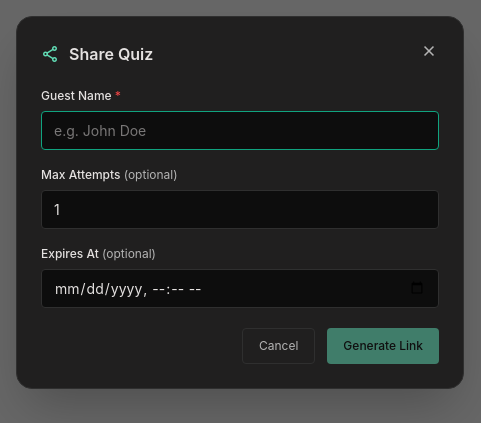
Test case: ShareDialog › creates a share link with sanitized payload
The width and height of the screenshot is (481, 423).
Type " Jane Doe " into the field with placeholder "e.g. John Doe" at point(240, 130), box [41, 110, 439, 150]
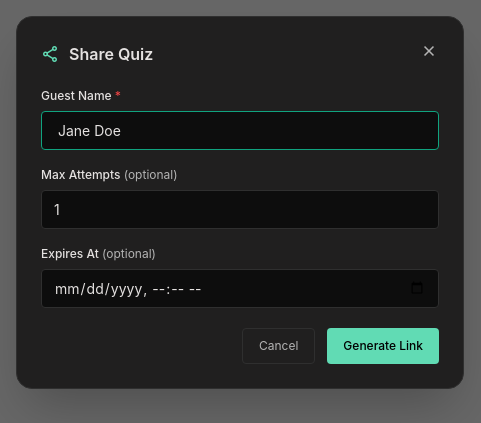
Replace the text in the number field with placeholder "Unlimited" with "3" at point(240, 209), box [41, 190, 439, 228]
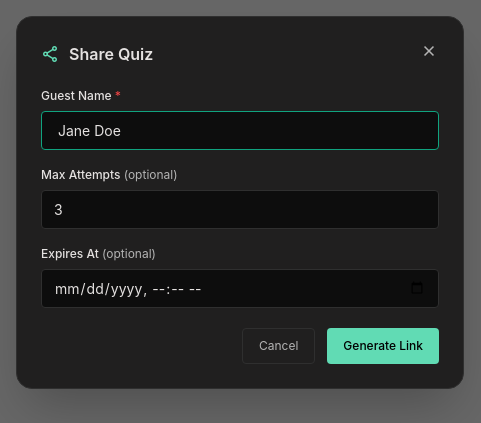
Type "2026-06-12T14:00" into the field below "Expires At" at point(240, 288), box [41, 268, 439, 308]
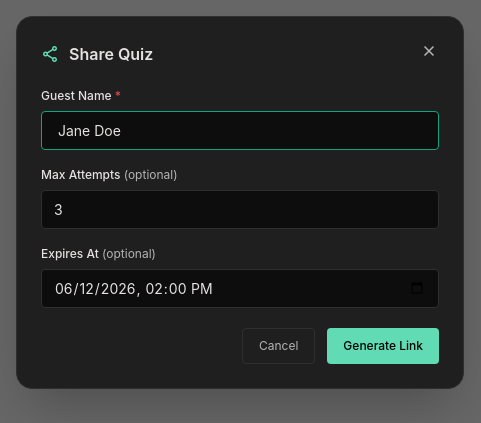
Click the button "Generate Link" at point(383, 346), box [327, 328, 439, 364]
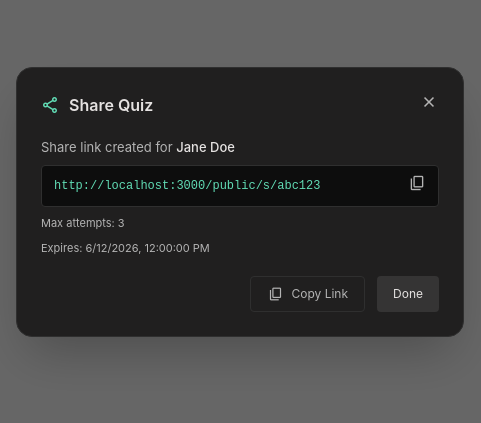
expect the text "Share link created for Jane Doe" is shown: met, box [41, 139, 235, 155]
expect the text "http://localhost:3000/public/s/abc123" is shown: met, box [54, 179, 320, 193]
